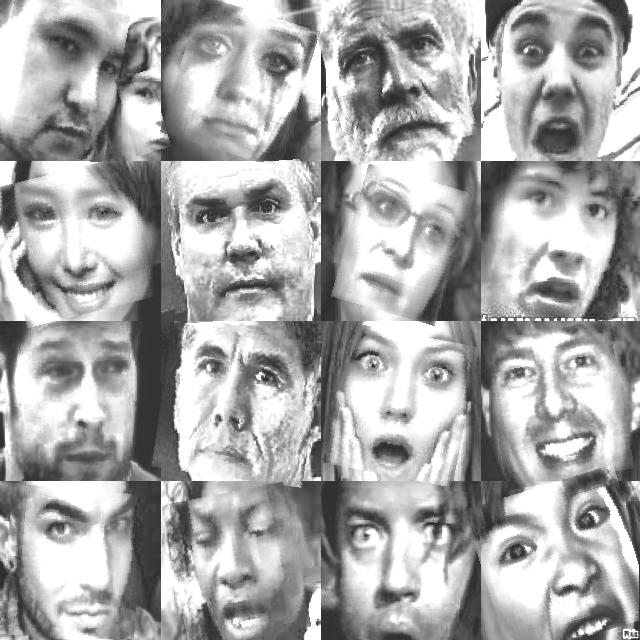fear: (474, 473, 640, 640), (329, 328, 473, 482), (485, 8, 631, 158), (334, 488, 474, 640), (492, 165, 620, 318)
happy: (1, 163, 151, 321), (487, 324, 628, 485), (3, 486, 143, 640), (0, 0, 123, 157)
neutral: (154, 327, 318, 483), (168, 162, 308, 322), (324, 8, 471, 160), (340, 170, 464, 320), (120, 72, 166, 154)
sad: (169, 2, 311, 160), (168, 487, 305, 640), (13, 333, 138, 479)
